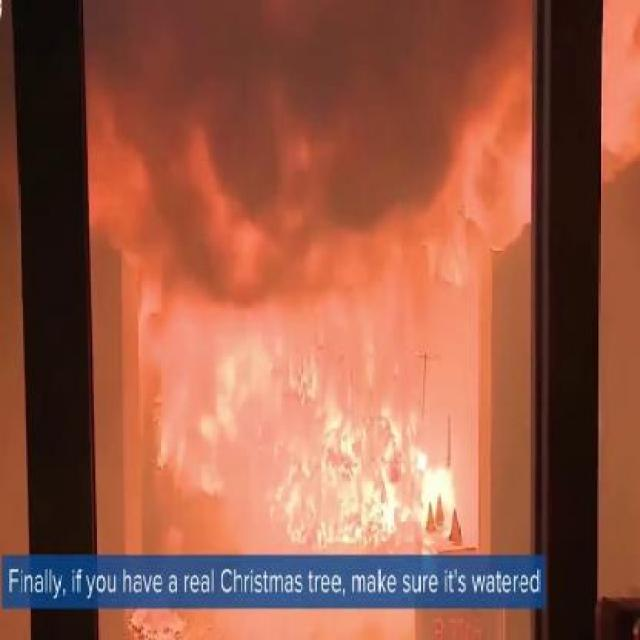fire: (217, 332, 451, 536)
smoke: (174, 1, 432, 178)
